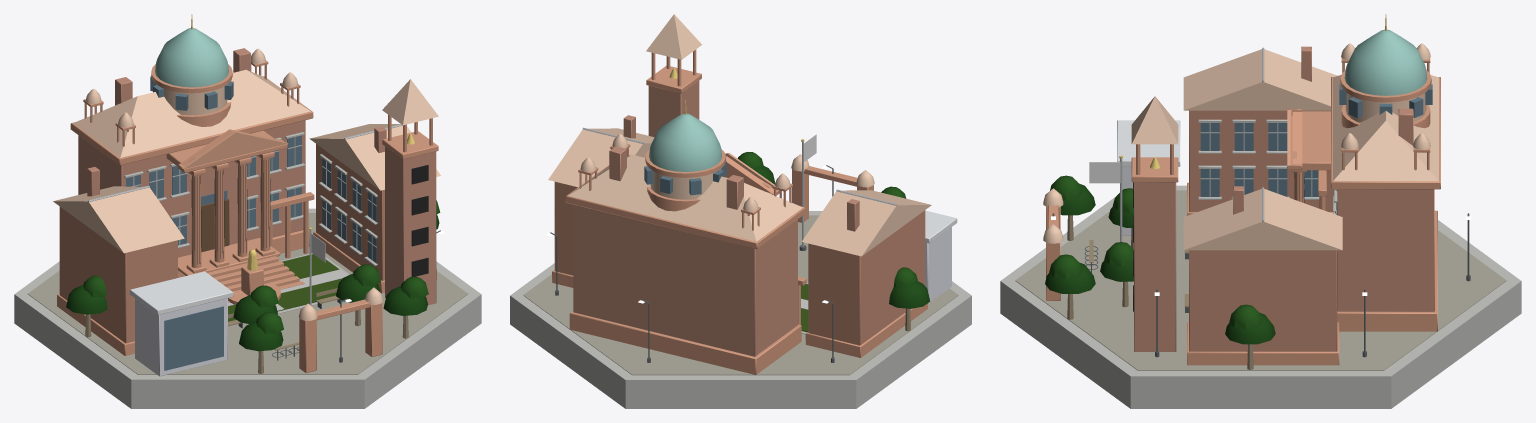
File: university_india.glb
The picture shows the model from 3 angles, left to right: view 1: azimuth 30°, elevation 25°; view 2: azimuth 150°, elevation 25°; view 3: azimuth 270°, elevation 25°; orthographic projection. The views are drawn at different scales.
Visible parts, largest first — view 1: brick, wall_concrete, stone, plaster, pavers, glass, leaf, cladding, copper, dark, turf, wood (+1 smaller); view 2: brick, plaster, wall_concrete, stone, pavers, copper, cladding, leaf, glass, steel_dark, metal; view 3: brick, wall_concrete, plaster, pavers, stone, leaf, glass, copper, cladding, wood, banner, steel_dark.
Part boxes in pixels (x1=…): brick: x1=59, y1=48, x2=436, y2=343; wall_concrete: x1=14, y1=132, x2=481, y2=408; stone: x1=57, y1=60, x2=438, y2=372; plaster: x1=53, y1=48, x2=440, y2=320; pavers: x1=28, y1=213, x2=467, y2=374; glass: x1=126, y1=76, x2=376, y2=370; leaf: x1=66, y1=200, x2=440, y2=351; cladding: x1=129, y1=271, x2=233, y2=376; copper: x1=155, y1=28, x2=228, y2=87; dark: x1=191, y1=159, x2=428, y2=276; turf: x1=228, y1=254, x2=342, y2=321; wood: x1=85, y1=199, x2=408, y2=373; brick: x1=554, y1=81, x2=925, y2=356; plaster: x1=548, y1=14, x2=931, y2=256; wall_concrete: x1=510, y1=211, x2=971, y2=408; stone: x1=552, y1=49, x2=927, y2=375; pavers: x1=523, y1=215, x2=958, y2=375; copper: x1=649, y1=113, x2=722, y2=171; cladding: x1=925, y1=210, x2=957, y2=303; leaf: x1=737, y1=152, x2=930, y2=308; glass: x1=644, y1=161, x2=726, y2=195; steel_dark: x1=550, y1=165, x2=834, y2=362; metal: x1=582, y1=127, x2=897, y2=246; brick: x1=1134, y1=46, x2=1434, y2=351; wall_concrete: x1=1000, y1=119, x2=1521, y2=408; plaster: x1=1043, y1=43, x2=1438, y2=250; pavers: x1=1015, y1=190, x2=1506, y2=370; stone: x1=1046, y1=53, x2=1440, y2=365; leaf: x1=1045, y1=175, x2=1275, y2=344; glass: x1=1200, y1=84, x2=1432, y2=214; copper: x1=1344, y1=29, x2=1427, y2=95; cladding: x1=1117, y1=120, x2=1180, y2=235; wood: x1=1067, y1=212, x2=1335, y2=369; banner: x1=1089, y1=162, x2=1120, y2=183; steel_dark: x1=1052, y1=213, x2=1470, y2=357.
Size of the model in its own units: 22.34 by 15.6 by 24.6.
